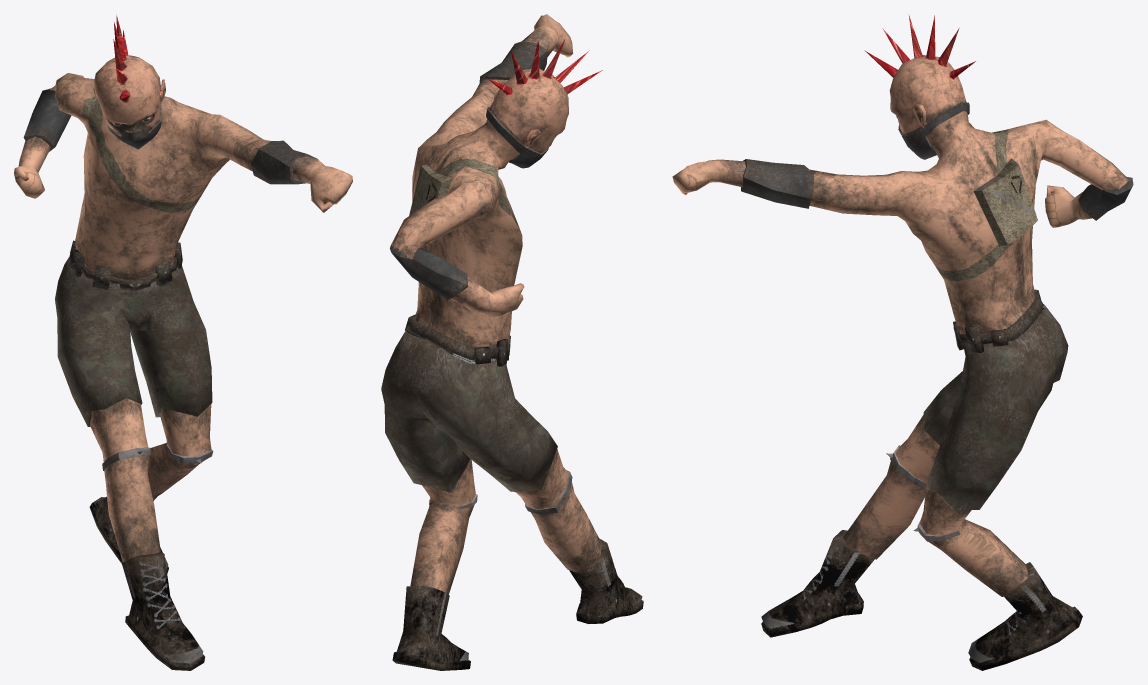
Rendered from Anim_ataque_d3_npc2.0029.obj.
3 renders of one model, left to right at view 1: azimuth 30°, elevation 25°; view 2: azimuth 150°, elevation 25°; view 3: azimuth 270°, elevation 25°, orthographic. The views are drawn at different scales.
Parts seen in each view (by area): view 1: polySurface1; view 2: polySurface1; view 3: polySurface1.
Boxes of the visible parts, x1,y1,x2,y2 form: polySurface1: [14, 15, 352, 670]; polySurface1: [381, 14, 643, 670]; polySurface1: [672, 14, 1133, 670].
Size of the model in its own units: 2.68 by 9.31 by 6.28.
2 materials, 2 textured.
